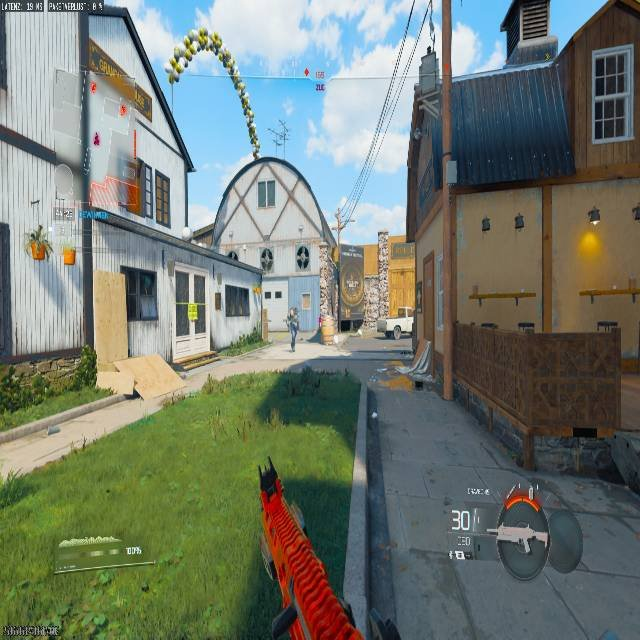head: (290, 306, 296, 313)
player: (284, 306, 299, 352), (393, 324, 402, 339)
